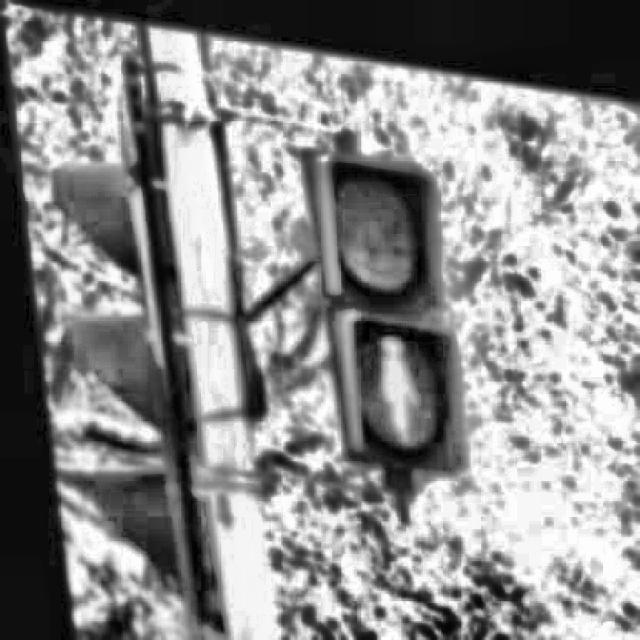semaforo pedestre: (234, 88, 575, 574)
